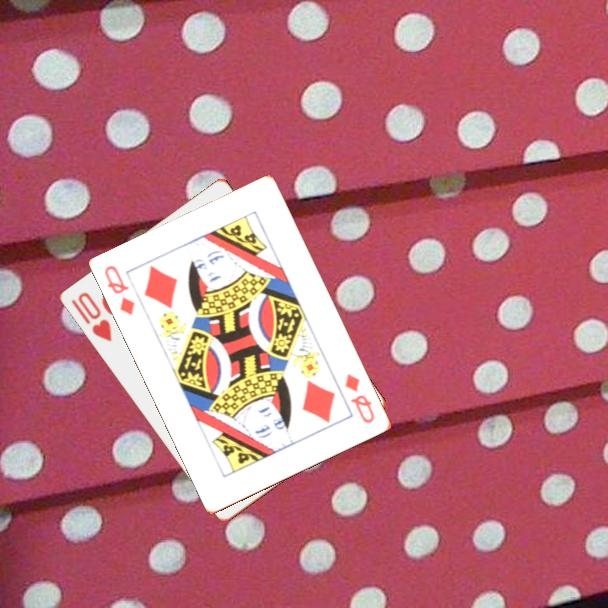d12: (101, 262, 138, 318), (342, 370, 378, 427)
h10: (68, 288, 115, 344)
